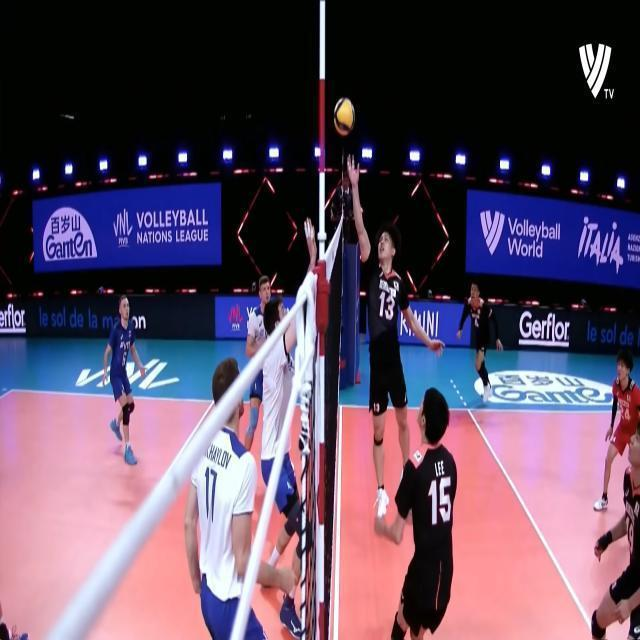volleyball: (334, 98, 356, 135)
